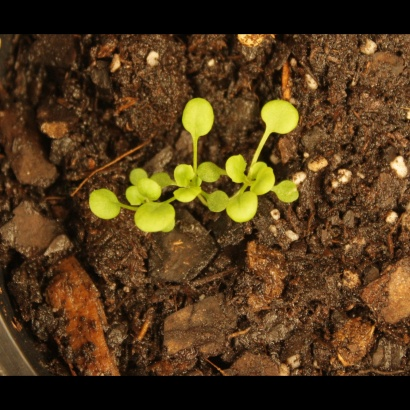leaf: (255, 93, 304, 138), (82, 180, 124, 225), (178, 90, 218, 136), (129, 202, 183, 235), (227, 189, 265, 227), (272, 173, 303, 211), (250, 159, 275, 197), (224, 151, 248, 185), (171, 163, 197, 190), (199, 160, 224, 188), (140, 176, 166, 200), (173, 184, 199, 207), (206, 190, 229, 214), (127, 164, 150, 187), (124, 184, 147, 207), (151, 169, 174, 192)
